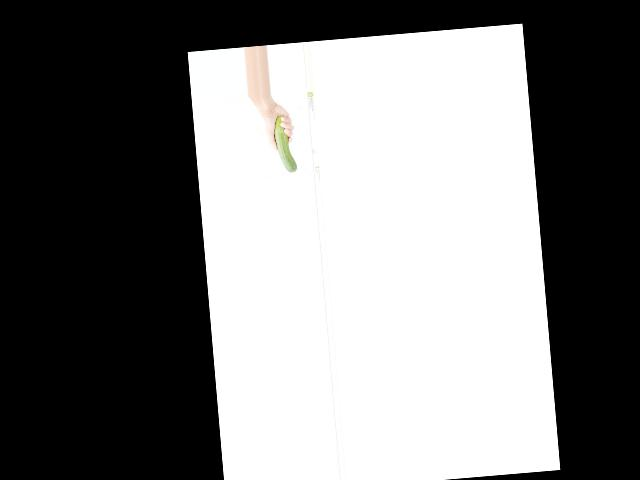cucumber: (274, 115, 297, 173)
